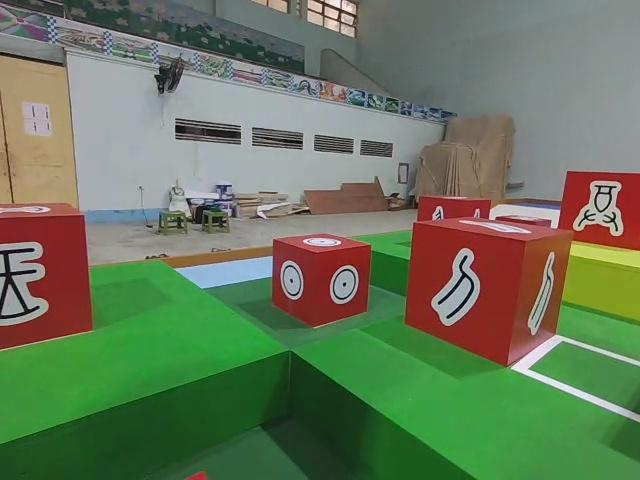R2 Real: (403, 216, 574, 367), (0, 199, 96, 352), (269, 229, 373, 328), (555, 167, 640, 253)
